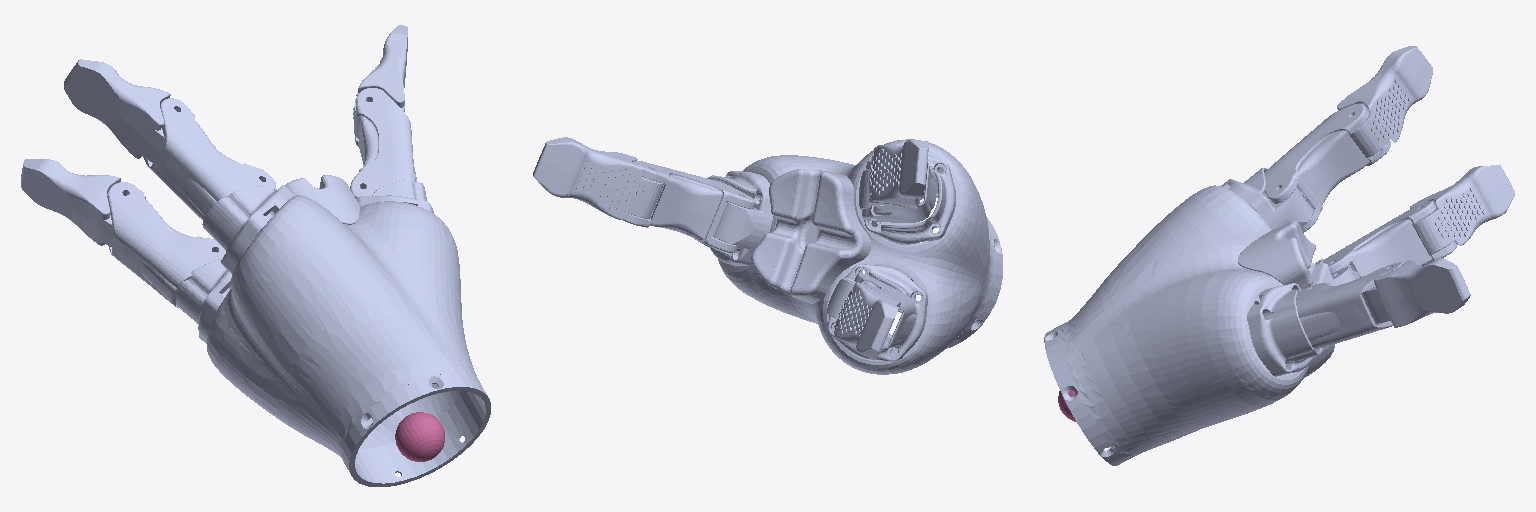
URDF robot description (jaco):
<?xml version="1.0" ?>
<robot name="jaco" xmlns:xacro="http://www.ros.org/wiki/xacro" xmlns:xi="http://www.w3.org/2001/XInclude">
       
  <link name="jaco2_link_base">
    <inertial>
      <origin rpy="0 0 0" xyz="0 0 0"/>
      <mass value="0.1"/>
      <inertia ixx="0.1" ixy="0.0" ixz="0.0" iyy="0.1" iyz="0.0" izz="0.1"/>
    </inertial>
    <visual>
      <geometry>
        <mesh filename="package://kinova_description/meshes/jaco2_link_base.dae"/>
      </geometry>
      <material name="carbon_fiber">
        <color rgba="0.792156862745098 0.819607843137255 0.933333333333333 1"/>
      </material>
    </visual>
    <collision>
      <geometry>
        <mesh filename="package://jaco_description/meshes/base_hull.stl"/>
      </geometry>
    </collision>
  </link>

  <link name="jaco2_link_1">
    <inertial>
      <origin rpy="0 0 0" xyz="0.0692 0.0001 -0.0103"/>
      <mass value="0.748"/>
      <inertia ixx="0.0102" ixy="-5.21e-07" ixz="-0.00212" iyy="0.0325" iyz="-4.14e-07" izz="0.0354"/>
    </inertial>
    <visual>
      <geometry>
        <mesh filename="package://kinova_description/meshes/jaco2_link_1.dae"/>
      </geometry>
      <material name="carbon_fiber">
        <color rgba="0.792156862745098 0.819607843137255 0.933333333333333 1"/>
      </material>
    </visual>
    <collision>
      <origin rpy="0 0 0" xyz="0 0 0" />
      <geometry>
	<mesh filename="package://jaco_description/meshes/link1_hull.stl" />
      </geometry>
    </collision>
  </link>

  <joint name="jaco2_joint_1" type="revolute">
    <parent link="jaco2_link_base"/>
    <child link="jaco2_link_1"/>
    <axis xyz="0 0 -1"/>
    <!-- <limit effort="30" lower="-3.14159" upper="3.14159" velocity="0.5"/> -->
    <limit effort="30" lower="-4.712385" upper="1.570795" velocity="0.5"/> <!-- Actual saturation: 0.65 -->
    <origin rpy="3.14159265359 0 3.14159265359" xyz="0 0 0.1535"/>
  </joint>

  <link name="jaco2_link_2">
    <inertial>
      <origin rpy="0 0 0" xyz="0.2052 0.0000 0.0223"/>
      <mass value="1.011"/>
      <inertia ixx="0.379" ixy="0.0" ixz="0.0" iyy="0.373" iyz="-5.9e-06" izz="0.00698"/>
    </inertial>
    <visual>
      <geometry>
        <mesh filename="package://kinova_description/meshes/jaco2_link_2.dae"/>
      </geometry>
      <material name="carbon_fiber">
        <color rgba="0.792156862745098 0.819607843137255 0.933333333333333 1"/>
      </material>
    </visual>
    <collision>
      <geometry>
        <mesh filename="package://jaco_description/meshes/link2_hull.stl"/>
      </geometry>
    </collision>
  </link>

  <joint name="jaco2_joint_2" type="revolute">
    <parent link="jaco2_link_1"/>
    <child link="jaco2_link_2"/>
    <axis xyz="0 0 1"/>
    <limit effort="30" lower="-3.9" upper="0.0" velocity="0.9"/>
    <origin rpy="-1.57079632679 3.14159265359 0" xyz="0 0 -0.1185"/>
  </joint>

  <link name="jaco2_link_3">
    <inertial>
      <origin rpy="0 0 0" xyz="0.0196 0.0000 0.0644"/>
      <mass value="0.568"/>
      <inertia ixx="0.0511" ixy="1.92e-07" ixz="-2.67e-07" iyy="0.144" iyz="-9.59e-05" izz="0.0129"/>
    </inertial>
    <visual>
      <geometry>
        <mesh filename="package://kinova_description/meshes/jaco2_link_3.dae"/>
      </geometry>
      <material name="carbon_fiber">
        <color rgba="0.792156862745098 0.819607843137255 0.933333333333333 1"/>
      </material>
    </visual>
    <collision>
      <geometry>
        <mesh filename="package://jaco_description/meshes/link3_hull.stl"/>
      </geometry>
    </collision>
  </link>

  <joint name="jaco2_joint_3" type="revolute">
    <parent link="jaco2_link_2"/>
    <child link="jaco2_link_3"/>
    <axis xyz="0 0 -1"/>
    <limit effort="30" lower="-3.92699081699" upper="0.785398163397" velocity="0.5"/> <!-- Actual saturation: 0.65 -->
    <origin rpy="3.14159265359 0 1.57079632679" xyz="0.41 0 0"/>
  </joint>

  <link name="jaco2_link_4">
    <inertial>
      <origin rpy="0 0 0" xyz="0.0086 0.0000 -0.0374"/>
      <mass value="0.427"/>
      <inertia ixx="0.00246" ixy="0.000833" ixz="3.35e-08" iyy="0.00342" iyz="3.4e-08" izz="0.00363"/>
    </inertial>
    <visual>
      <geometry>
        <mesh filename="package://kinova_description/meshes/jaco2_link_4.dae"/>
      </geometry>
      <material name="carbon_fiber">
        <color rgba="0.792156862745098 0.819607843137255 0.933333333333333 1"/>
      </material>
    </visual>
    <collision>
      <geometry>
        <mesh filename="package://jaco_description/meshes/link4_hull.stl"/>
      </geometry>
    </collision>
  </link>

  <joint name="jaco2_joint_4" type="revolute">
    <parent link="jaco2_link_3"/>
    <child link="jaco2_link_4"/>
    <axis xyz="0 0 -1"/>
    <limit effort="30" lower="-3.14159" upper="3.14159" velocity="0.9"/>
    <origin rpy="3.14159265359 1.57079632679 0" xyz="0.207 0 -0.01125"/>
  </joint>

  <link name="jaco2_link_5">
    <inertial>
      <origin rpy="0 0 0" xyz="0.0086 0.0000 -0.0374"/>
      <mass value="0.427"/>
      <inertia ixx="0.00246" ixy="0.000833" ixz="3.35e-08" iyy="0.00342" iyz="3.4e-08" izz="0.00363"/>
    </inertial>
    <visual>
      <geometry>
        <mesh filename="package://kinova_description/meshes/jaco2_link_5.dae"/>
      </geometry>
      <material name="carbon_fiber">
        <color rgba="0.792156862745098 0.819607843137255 0.933333333333333 1"/>
      </material>
    </visual>
    <collision>
      <geometry>
        <mesh filename="package://jaco_description/meshes/link5_hull.stl"/>
      </geometry>
    </collision>
  </link>

  <joint name="jaco2_joint_5" type="revolute">
    <parent link="jaco2_link_4"/>
    <child link="jaco2_link_5"/>
    <axis xyz="0 0 -1"/>
    <limit effort="30" lower="-3.14159" upper="3.14159" velocity="0.9"/>
    <origin rpy="0 -1.0471975512 0" xyz="0.03700 0 -0.06408"/>
  </joint>

  <link name="jaco2_wrist">
    <visual>
      <geometry>
	<sphere radius="0.01"/>
      </geometry>
    </visual>
  </link>

  <!-- <joint name="jaco2_joint_6" type="continuous"> -->
  <joint name="jaco2_joint_6" type="revolute">
    <parent link="jaco2_link_5"/>
    <child link="jaco2_wrist"/>
    <axis xyz="0 0 -1"/>
    <limit effort="30" lower="-3.14159265359" upper="6.28" velocity="0.75"/> <!-- actual saturation: 0.85 -->
    <origin rpy="-1.0471975512 0 1.57079632679" xyz="0.03700 0 -0.06408"/>
  </joint>

  <joint name="jaco2_wrist_to_link_hand" type="fixed">
    <parent link="jaco2_wrist"/>
    <child link="jaco2_link_hand"/>
    <origin rpy="0 0 0" xyz="0 0 0"/>
  </joint>

  <link name="jaco2_link_hand">
    <inertial>
      <origin rpy="0 0 0" xyz="0.0068 0.0000 -0.0822"/>
      <mass value="0.727"/>
      <inertia ixx="0.00466" ixy="0.000413" ixz="-1.05e-05" iyy="0.00265" iyz="-3.24e-06" izz="0.00525"/>
    </inertial>
    <visual>
      <origin xyz="0 0 0" rpy="-1.5708 0 0" />
      <geometry>
        <!-- <mesh filename="package://kinova_description/meshes/jaco2_link_hand.dae"/> -->
	<mesh filename="package://jaco_description/meshes/hand.STL" />
      </geometry>
      <material name="carbon_fiber">
        <color rgba="0.792156862745098 0.819607843137255 0.933333333333333 1"/>
      </material>
    </visual>
    <collision>
      <geometry>
        <mesh filename="package://jaco_description/meshes/hand_hull.stl"/>
      </geometry>
    </collision>
  </link>

  <joint name="jaco2_link_hand_to_end_effector" type="fixed">
    <parent link="jaco2_link_hand"/>
    <child link="jaco2_end_effector"/>
    <origin rpy="0 3.14159265359 0" xyz="0 0 -0.1687"/>
  </joint>

  <link name="jaco2_end_effector">
  </link>

  <link name="jaco2_link_finger_1">
    <!-- Inertia included in the hand link -->
    <inertial>
      <origin rpy="0 0 0" xyz="0 0 0"/>
      <mass value="0.010"/>
      <inertia ixx="0.010" ixy="0" ixz="0" iyy="0.010" iyz="0" izz="0.010"/>
    </inertial>
    <visual>
      <geometry>
        <!--mesh filename="package://kinova_description/meshes/jaco2_link_finger_1.dae"/-->
	<mesh filename="package://jaco_description/meshes/finger.stl"/>
      </geometry>
      <material name="carbon_fiber">
        <color rgba="0.792156862745098 0.819607843137255 0.933333333333333 1"/>
      </material>
    </visual>
    <collision>
      <geometry>
        <!--mesh filename="package://kinova_description/meshes/jaco2_link_finger_1.dae"/-->
	<mesh filename="package://jaco_description/meshes/finger.stl"/>
      </geometry>
    </collision>
  </link>

  <joint name="jaco2_joint_finger_1" type="revolute">
    <parent link="jaco2_link_hand"/>
    <child link="jaco2_link_finger_1"/>
    <axis xyz="0 0 1"/>
    <origin rpy="-1.7983 1.117 3.1416" xyz="-0.03141 0.00279 -0.11433"/>
    <limit effort="30" lower="0" upper="0.77" velocity="5"/>
  </joint>

  <link name="jaco2_link_finger_1_tip">
    <visual>
      <geometry>
	<mesh filename="package://jaco_description/meshes/finger_tip.stl"/>
      </geometry>
      <material name="carbon_fiber">
        <color rgba="0.792156862745098 0.819607843137255 0.933333333333333 1"/>
      </material>
    </visual>
    <collision>
      <geometry>
	<mesh filename="package://jaco_description/meshes/finger_tip.stl"/>
      </geometry>
    </collision>
  </link>
  
  <joint name="jaco2_joint_finger_1_tip" type="revolute">
    <axis xyz="0 0 1" />
    <parent link="jaco2_link_finger_1" />
    <child link="jaco2_link_finger_1_tip" />
    <origin xyz="0.044 -0.003 0" rpy="0 0 -0.2" />
    <limit effort="30" lower="0" upper=".5775" velocity="5" />
    <mimic joint="jaco2_joint_finger_1" multiplier="0.75" />
  </joint>

  <link name="jaco2_link_finger_2">
    <!-- Inertia included in the hand link -->
    <inertial>
      <origin rpy="0 0 0" xyz="0 0 0"/>
      <mass value="0.010"/>
      <inertia ixx="0.010" ixy="0" ixz="0" iyy="0.010" iyz="0" izz="0.010"/>
    </inertial>
    <visual>
      <geometry>
        <!--mesh filename="package://kinova_description/meshes/jaco2_link_finger_2.dae"/-->
	<mesh filename="package://jaco_description/meshes/finger.stl"/>
      </geometry>
      <material name="carbon_fiber">
        <color rgba="0.792156862745098 0.819607843137255 0.933333333333333 1"/>
      </material>
    </visual>
    <collision>
      <geometry>
        <!--mesh filename="package://kinova_description/meshes/jaco2_link_finger_2.dae"/-->
	<mesh filename="package://jaco_description/meshes/finger.stl"/>
      </geometry>
    </collision>
  </link>

  <joint name="jaco2_joint_finger_2" type="revolute">
    <parent link="jaco2_link_hand"/>
    <child link="jaco2_link_finger_2"/>
    <axis xyz="0 0 1"/>
    <origin rpy="-1.6222 1.117 -0.23615" xyz="0.02707 -0.02226 -0.11457"/>
    <limit effort="30" lower="0" upper="0.77" velocity="5"/>
  </joint>

  <link name="jaco2_link_finger_2_tip">
    <visual>
      <geometry>
	<mesh filename="package://jaco_description/meshes/finger_tip.stl"/>
      </geometry>
      <material name="carbon_fiber">
	<color rgba="0.792156862745098 0.819607843137255 0.933333333333333 1"/>
      </material>
    </visual>
    <collision>
      <geometry>
	<mesh filename="package://jaco_description/meshes/finger_tip.stl"/>
      </geometry>
    </collision>
  </link>

  <joint name="jaco2_joint_finger_2_tip" type="revolute">
    <axis xyz="0 0 1" />
    <parent link="jaco2_link_finger_2" />
    <child link="jaco2_link_finger_2_tip" />
    <origin xyz="0.044 -0.003 0" rpy="0 0 -0.2" />
    <limit effort="30" lower="0" upper=".5775" velocity="5" />
    <mimic joint="jaco2_joint_finger_2" multiplier="0.75" />
  </joint>

  <link name="jaco2_link_finger_3">
    <!-- Inertia included in the hand link -->
    <inertial>
      <origin rpy="0 0 0" xyz="0 0 0"/>
      <mass value="0.010"/>
      <inertia ixx="0.010" ixy="0" ixz="0" iyy="0.010" iyz="0" izz="0.010"/>
    </inertial>
    <visual>
      <geometry>
        <!--mesh filename="package://kinova_description/meshes/jaco2_link_finger_3.dae"/-->
	<mesh filename="package://jaco_description/meshes/finger.stl"/>
      </geometry>
      <material name="carbon_fiber">
        <color rgba="0.792156862745098 0.819607843137255 0.933333333333333 1"/>
      </material>
    </visual>
    <collision>
      <geometry>
        <!--mesh filename="package://kinova_description/meshes/jaco2_link_finger_3.dae"/-->
	<mesh filename="package://jaco_description/meshes/finger.stl"/>
      </geometry>
    </collision>
  </link>

  <joint name="jaco2_joint_finger_3" type="revolute">
    <parent link="jaco2_link_hand"/>
    <child link="jaco2_link_finger_3"/>
    <axis xyz="0 0 1"/>
    <!--origin rpy="-1.5161 1.1459 0.23978" xyz="0.03569 0.0216 -0.10071"/-->
    <origin xyz="0.03141 0.02226 -0.11457" rpy="-1.5161 1.1459 0.23978"/>
    <limit effort="30" lower="0" upper="0.77" velocity="5"/>
  </joint>

  <link name="jaco2_link_finger_3_tip">
    <visual>
      <geometry>
	<mesh filename="package://jaco_description/meshes/finger_tip.stl"/>
      </geometry>
      <material name="carbon_fiber">
        <color rgba="0.792156862745098 0.819607843137255 0.933333333333333 1"/>
      </material>
    </visual>
    <collision>
      <geometry>
	<mesh filename="package://jaco_description/meshes/finger_tip.stl"/>
      </geometry>
    </collision>
  </link>

  <joint name="jaco2_joint_finger_3_tip" type="revolute">
    <axis xyz="0 0 1" />
    <parent link="jaco2_link_finger_3" />
    <child link="jaco2_link_finger_3_tip" />
    <origin xyz="0.044 -0.003 0" rpy="0 0 -0.2" />
    <limit effort="30" lower="0" upper=".5775" velocity="5" />
    <mimic joint="jaco2_joint_finger_3" multiplier="0.75" />
  </joint>

</robot>

--- Render facts (derived) ---
The picture shows the robot from 3 angles, left to right: view 1: azimuth 30°, elevation 25°; view 2: azimuth 150°, elevation 25°; view 3: azimuth 270°, elevation 25°; orthographic projection.
Model jaco with 15 links and 14 joints (12 revolute, 2 fixed), rooted at jaco2_link_base, posed all joints at 0.
Links seen in each view (by area): view 1: jaco2_link_hand, jaco2_link_finger_3, jaco2_link_finger_2, jaco2_link_finger_2_tip, jaco2_link_finger_1, jaco2_link_finger_3_tip, jaco2_link_finger_1_tip, jaco2_wrist; view 2: jaco2_link_hand, jaco2_link_finger_1_tip, jaco2_link_finger_1, jaco2_link_finger_2_tip, jaco2_link_finger_3_tip, jaco2_link_finger_2, jaco2_link_finger_3; view 3: jaco2_link_hand, jaco2_link_finger_2, jaco2_link_finger_2_tip, jaco2_link_finger_3_tip, jaco2_link_finger_1_tip, jaco2_link_finger_1, jaco2_link_finger_3.
Link boxes in pixels (<box>): jaco2_link_hand: <box>176,175,490,486</box>; jaco2_link_finger_3: <box>107,182,225,307</box>; jaco2_link_finger_2: <box>143,98,275,219</box>; jaco2_link_finger_2_tip: <box>64,59,170,162</box>; jaco2_link_finger_1: <box>350,88,416,197</box>; jaco2_link_finger_3_tip: <box>21,159,127,246</box>; jaco2_link_finger_1_tip: <box>353,25,407,138</box>; jaco2_wrist: <box>395,412,444,461</box>; jaco2_link_hand: <box>695,139,1002,374</box>; jaco2_link_finger_1_tip: <box>533,137,663,219</box>; jaco2_link_finger_1: <box>623,161,755,252</box>; jaco2_link_finger_2_tip: <box>869,139,928,208</box>; jaco2_link_finger_3_tip: <box>835,285,900,359</box>; jaco2_link_finger_2: <box>862,147,936,222</box>; jaco2_link_finger_3: <box>834,273,915,349</box>; jaco2_link_hand: <box>1044,168,1355,465</box>; jaco2_link_finger_2: <box>1264,103,1390,232</box>; jaco2_link_finger_2_tip: <box>1337,46,1432,157</box>; jaco2_link_finger_3_tip: <box>1410,165,1514,254</box>; jaco2_link_finger_1_tip: <box>1362,258,1470,327</box>; jaco2_link_finger_1: <box>1296,262,1402,349</box>; jaco2_link_finger_3: <box>1323,201,1456,278</box>.
Bounding box of the posed robot: 0.169 × 0.1969 × 0.1544 m (x, y, z).
Meshes: 9 distinct files referenced, 7 mesh visuals loaded (3 binary STL); not drawn: 6 (reference not matched to a file when rendering).
